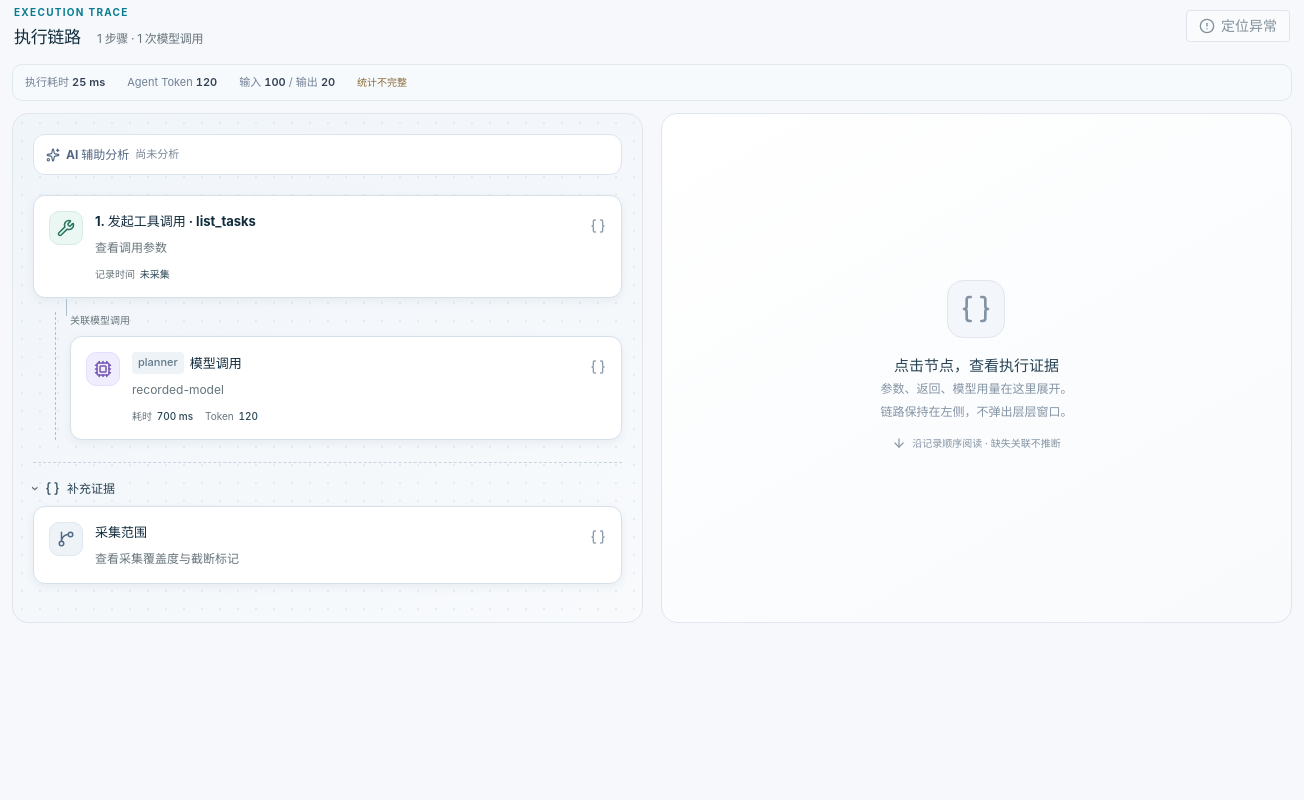
Test case: opens complete observable node evidence without exposing internal thought or tool tokens
Click the button "1. 发起工具调用 · list_tasks 查看调用参数 记录时间 未采集" at (66, 228), box top-left (33, 195), bottom-right (622, 298)
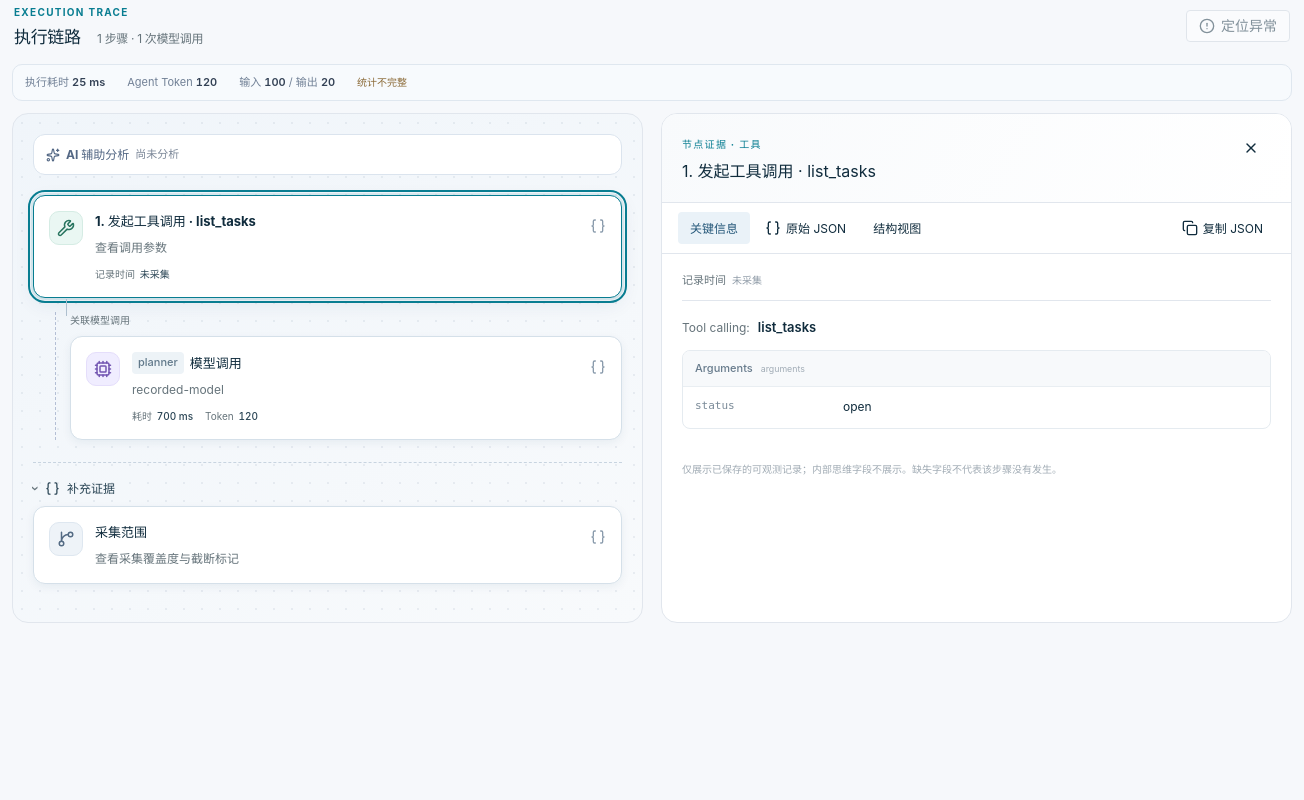
Check: the text "open" is shown, box top-left (843, 397), bottom-right (872, 418)
Check: the text "Tool calling:" is shown, box top-left (682, 318), bottom-right (750, 337)
Click the button "原始 JSON" at (806, 228), box top-left (753, 212), bottom-right (858, 244)
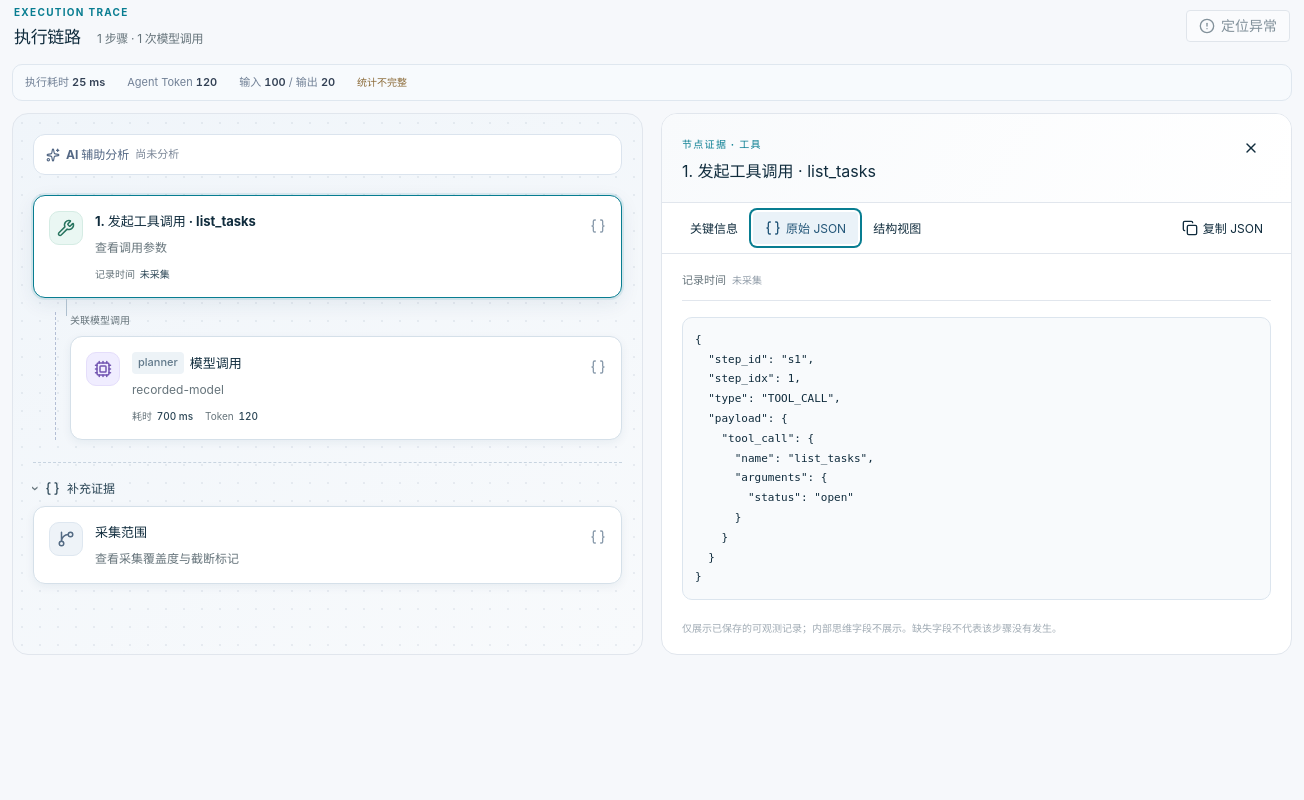
Check: the text "\"status\": \"open\"" is shown, box top-left (695, 333), bottom-right (874, 583)
Click the button "planner 模型调用 recorded-model 耗时 700 ms Token 120" at (103, 369), box top-left (70, 336), bottom-right (622, 440)
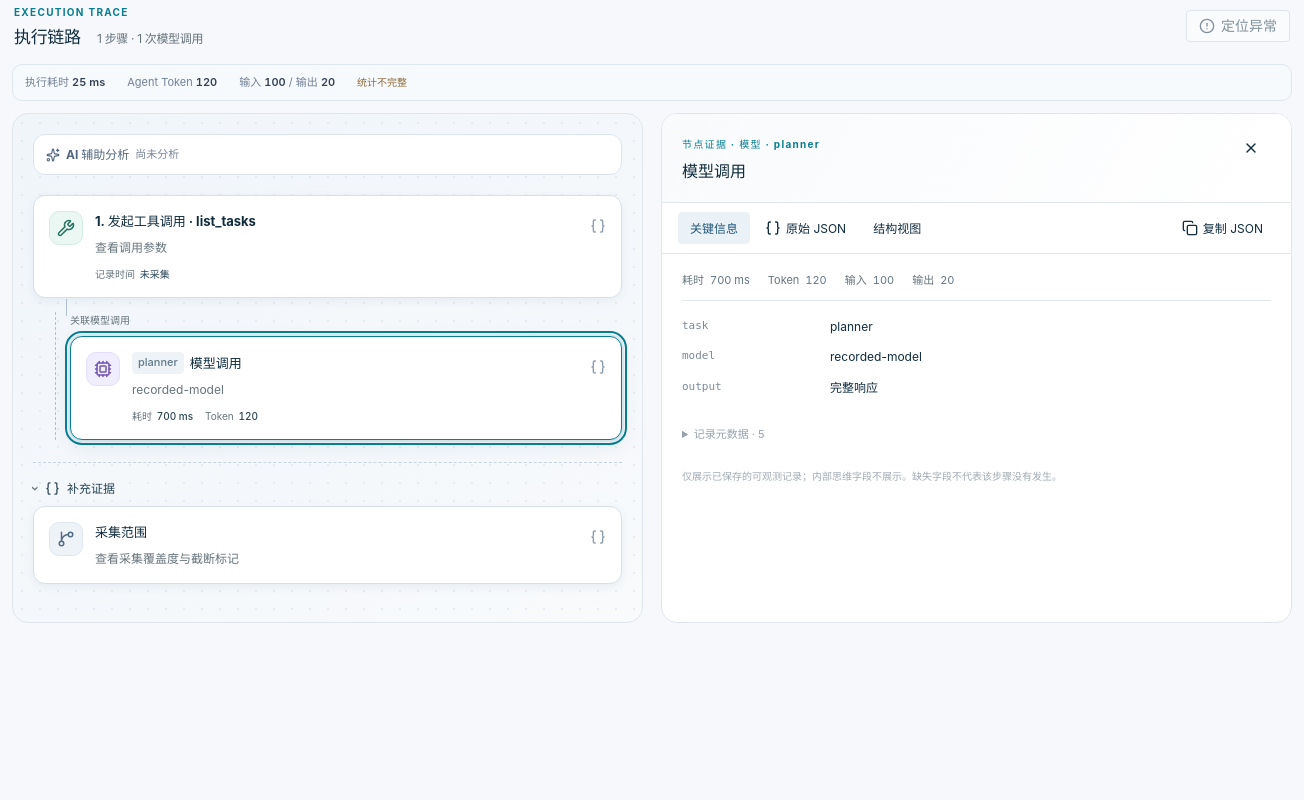
Check: the button "定位异常" is disabled, box top-left (1186, 10), bottom-right (1290, 42)
Check: the text "120" below "节点证据 ·" is shown, box top-left (805, 273), bottom-right (827, 287)
Check: the text "完整响应" is shown, box top-left (830, 378), bottom-right (878, 398)
